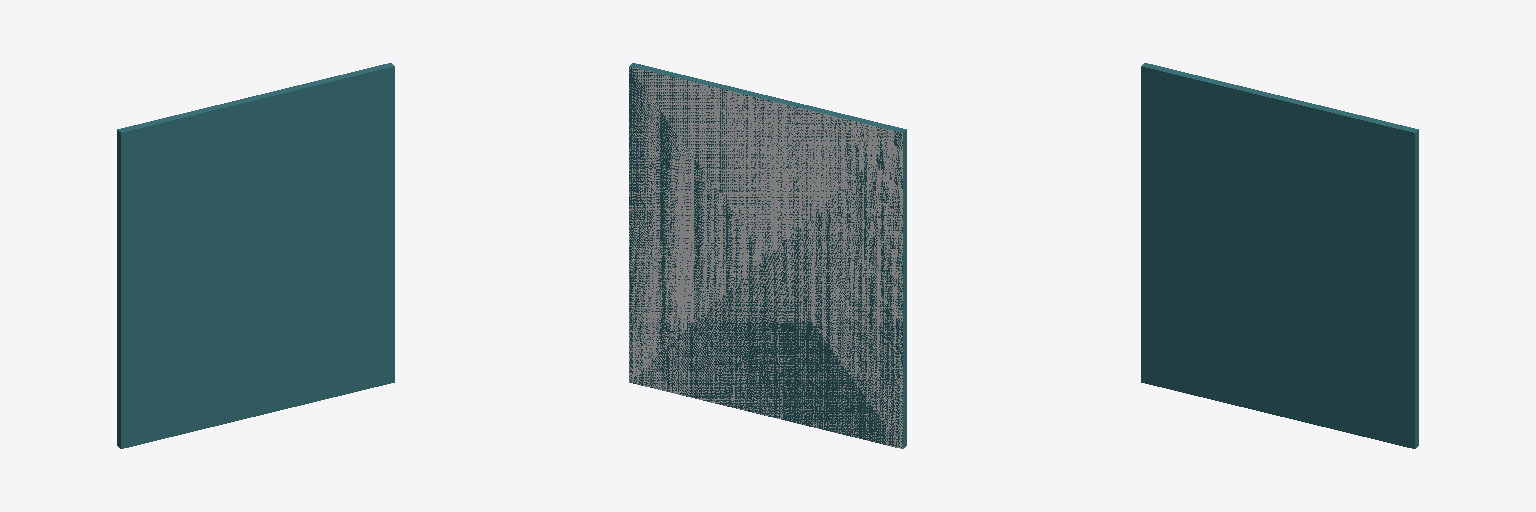
The model's file is Painting-006.obj.
The picture shows the model from 3 angles: view 1: azimuth 30°, elevation 25°; view 2: azimuth 150°, elevation 25°; view 3: azimuth 330°, elevation 25°; orthographic projection.
Parts seen in each view (by area): view 1: Mesh1 Group1 Model; view 2: Mesh1 Group1 Model; view 3: Mesh1 Group1 Model.
Part boxes in pixels (left/top/right/bottom): Mesh1 Group1 Model: left=117, top=63, right=394, bottom=448; Mesh1 Group1 Model: left=629, top=63, right=906, bottom=448; Mesh1 Group1 Model: left=1141, top=63, right=1418, bottom=448.
Size of the model in its own units: 1.38 by 1.52 by 0.04.